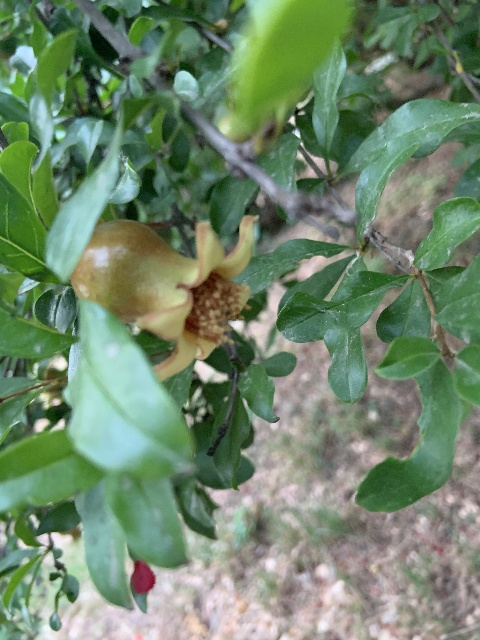early-fruit: (70, 213, 255, 381)
